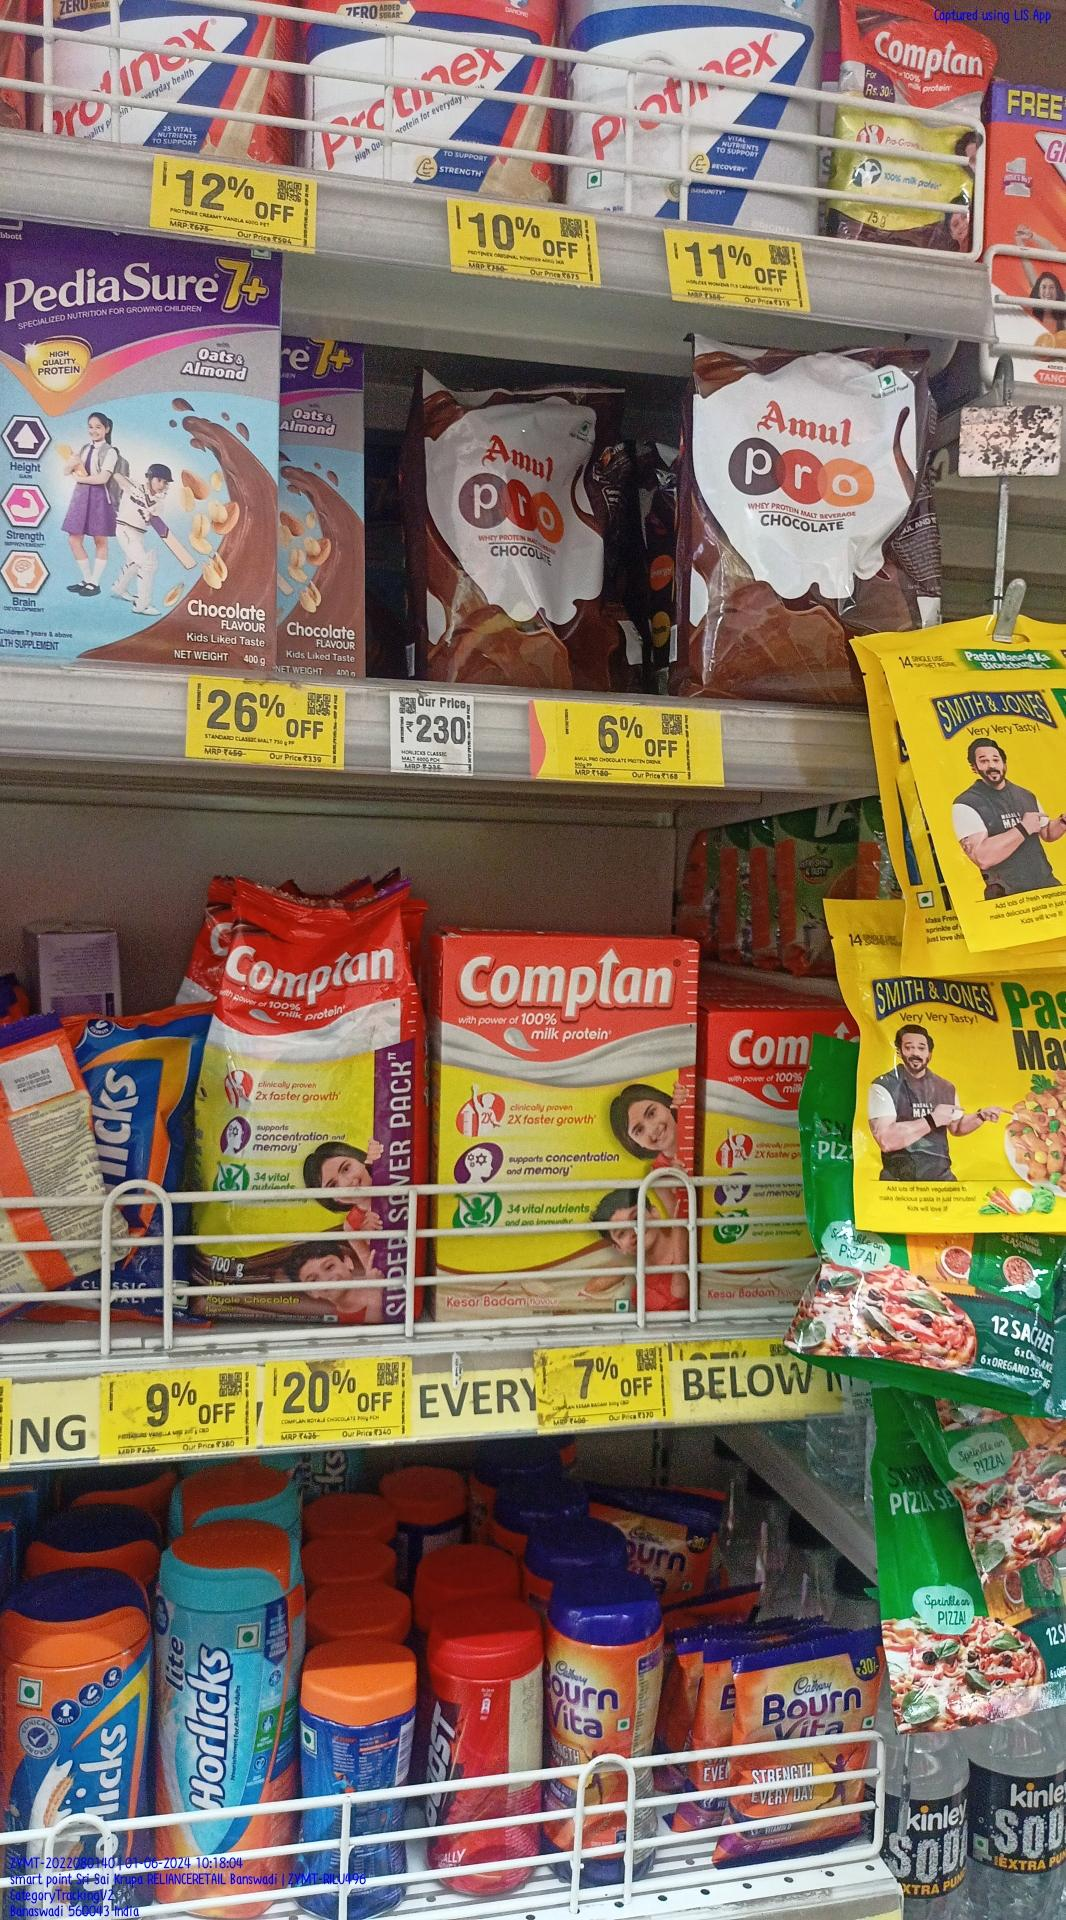COMPLAN_KESAR_BADAM_200_GMS_PACK: (708, 1009, 848, 1312)
COMPLAN_KESAR_BADAM_500_GMS_PACK: (437, 923, 694, 1327)
COMPLAN_RC_POUCH_700_GMS_12: (182, 890, 416, 1318)
HORLICK_CLASSIC_MALT_500_G_JAR: (0, 1553, 154, 1920)
